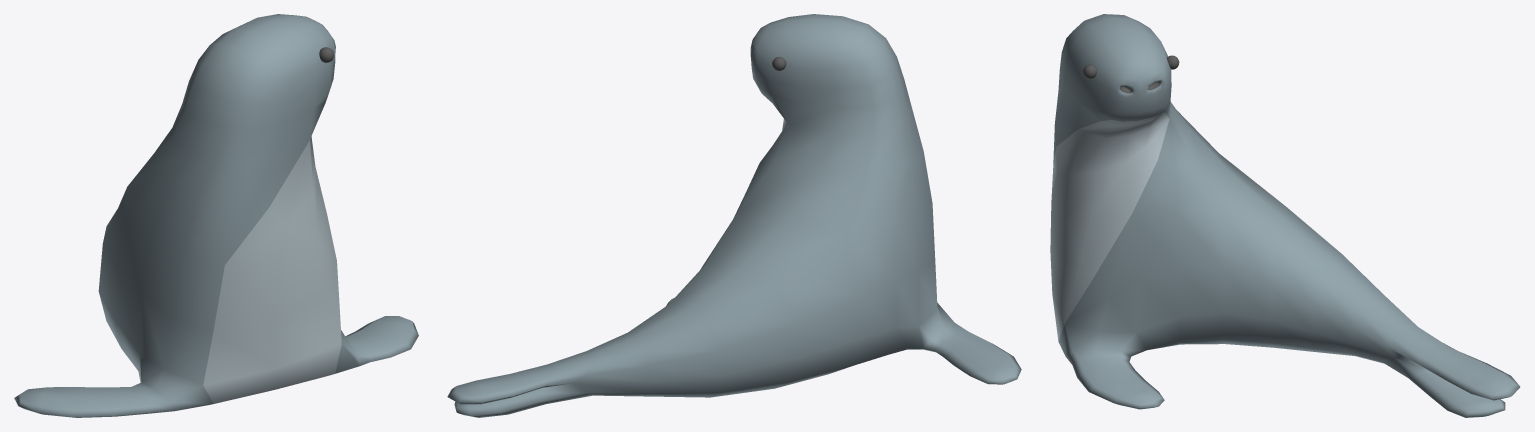
The model's file is Seal.fbx.
The picture shows the model from 3 angles, left to right: view 1: azimuth 30°, elevation 25°; view 2: azimuth 150°, elevation 25°; view 3: azimuth 270°, elevation 25°; orthographic projection. The views are drawn at different scales.
Visible parts, largest first — view 1: Seal_Cube.032; view 2: Seal_Cube.032; view 3: Seal_Cube.032.
Boxes of the visible parts, x1,y1,x2,y2 form: Seal_Cube.032: (14,14,418,417); Seal_Cube.032: (447,14,1021,417); Seal_Cube.032: (1050,14,1520,417).
Bounding box in the file's own units: 1303 × 990 × 1330.
